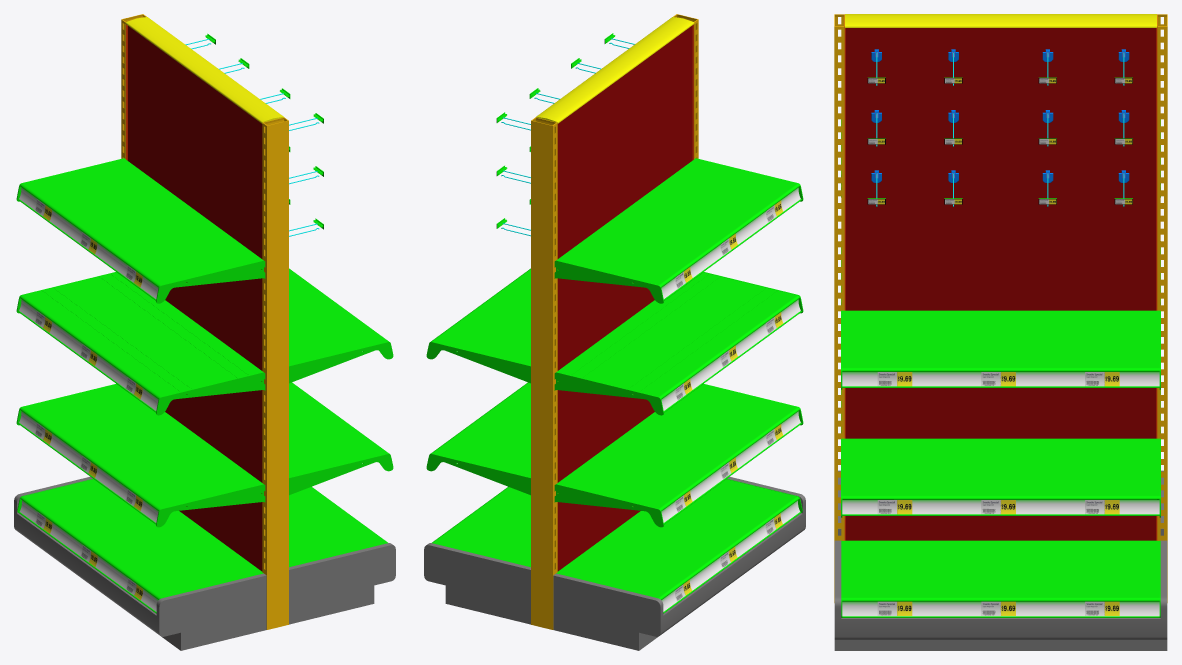
The model's file is StoreDisplay.fbx.
3 renders of one model, left to right at view 1: azimuth 30°, elevation 25°; view 2: azimuth 150°, elevation 25°; view 3: azimuth 270°, elevation 25°, orthographic. The views are drawn at different scales.
Visible parts, largest first — view 1: StoreDisplay; view 2: StoreDisplay; view 3: StoreDisplay.
Part boxes in pixels (box(x1,y1,x2,y2)): StoreDisplay: box(14, 14, 395, 650); StoreDisplay: box(424, 14, 805, 650); StoreDisplay: box(834, 14, 1167, 650).
Bounding box in the file's own units: 97.02 × 198 × 103.
